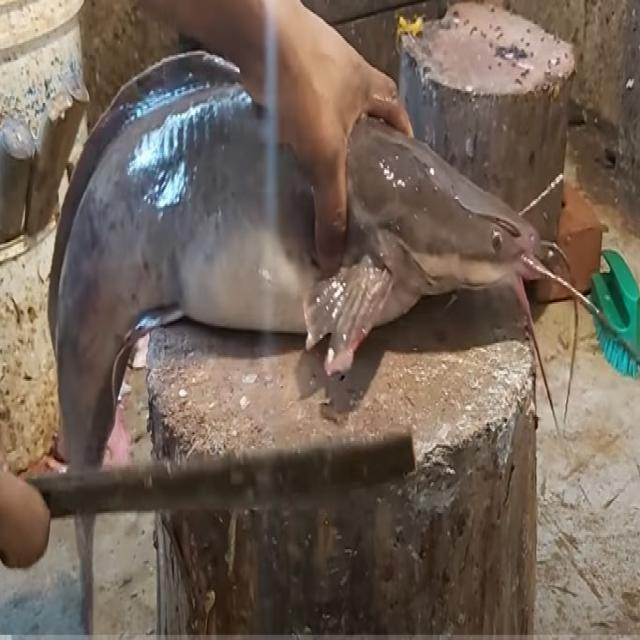Catfish: (23, 49, 607, 470)
